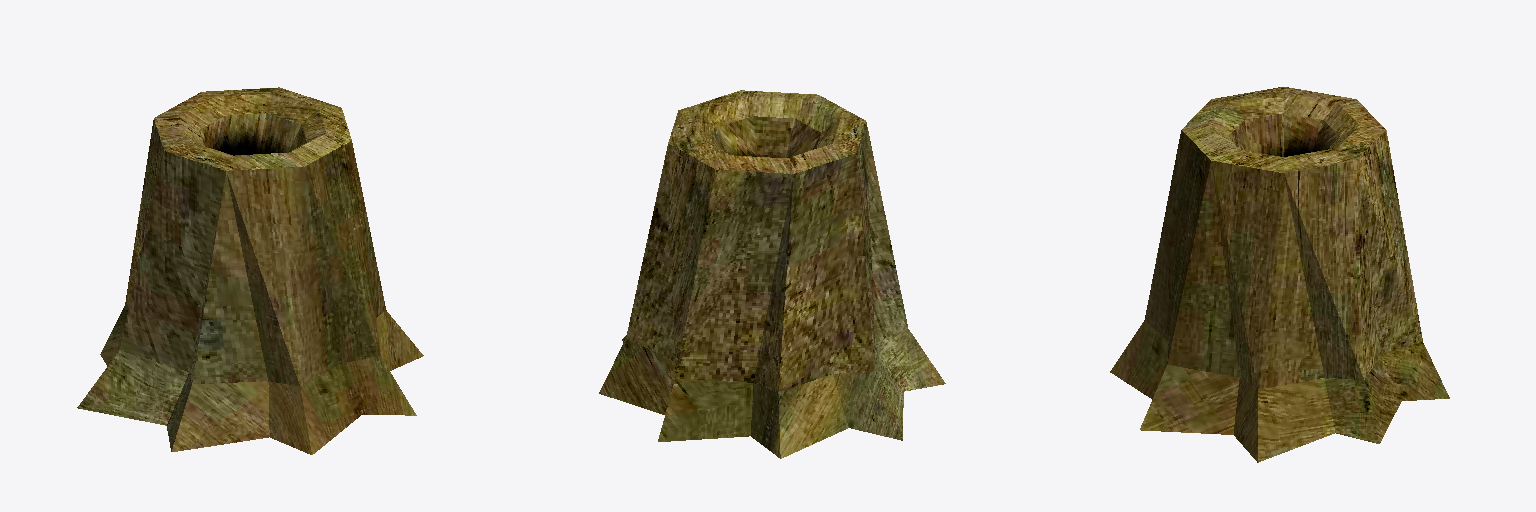
3 renders of one model, left to right at view 1: azimuth 30°, elevation 25°; view 2: azimuth 150°, elevation 25°; view 3: azimuth 270°, elevation 25°, orthographic.
Parts seen in each view (by area): view 1: Cylinder; view 2: Cylinder; view 3: Cylinder.
Part boxes in pixels (x1,y1,x2,y2): Cylinder: (77,87,423,454); Cylinder: (599,90,945,458); Cylinder: (1110,87,1449,462).
Size of the model in its own units: 5.37 by 4.26 by 5.04.
Materials: 1 (1 with a texture image).